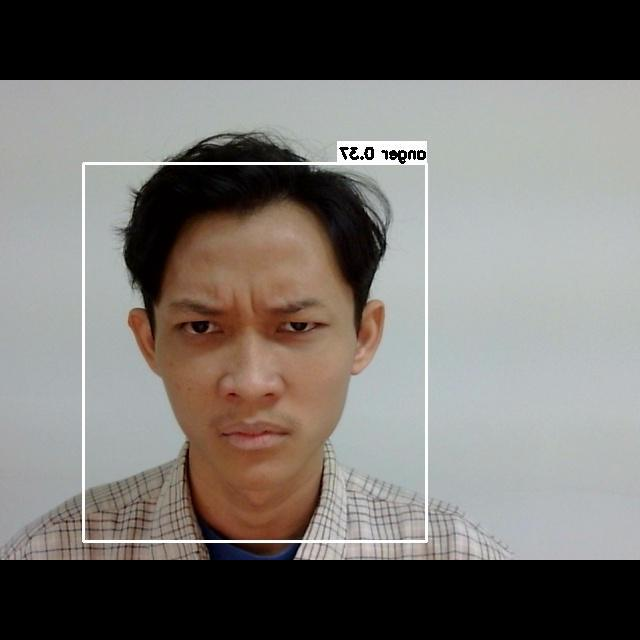Angry: (150, 266, 376, 465)
